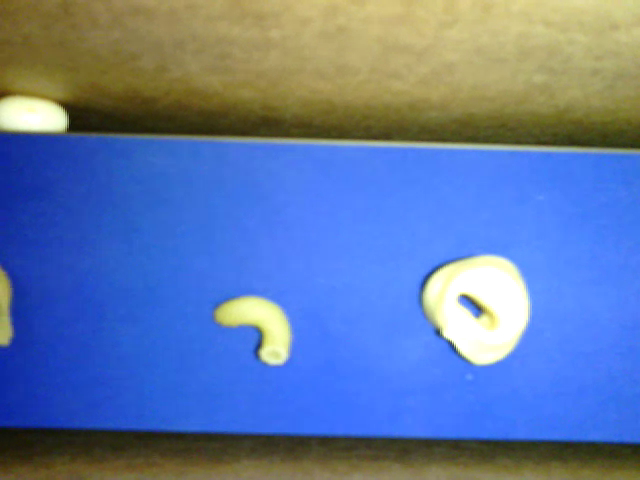elbow: (213, 295, 291, 366)
tortellini: (421, 254, 530, 366)
